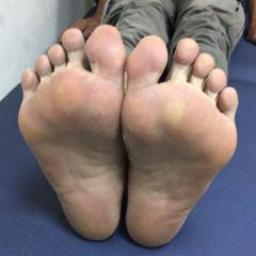Plantar View -Both Feet-: (8, 18, 248, 255)
